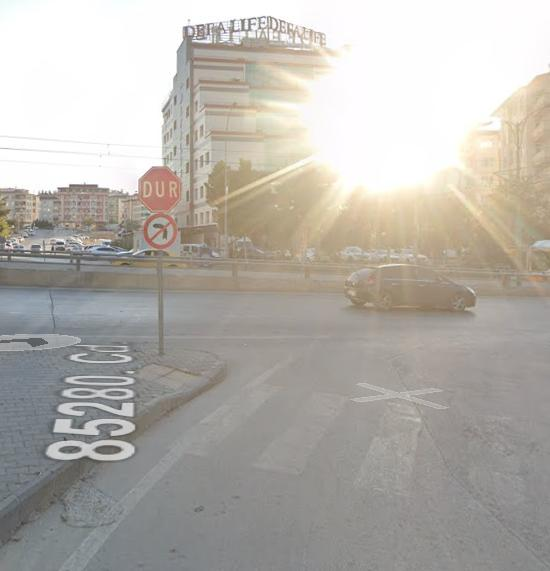leftturnsareforbidden: (143, 214, 178, 247)
stop: (139, 165, 181, 209)
